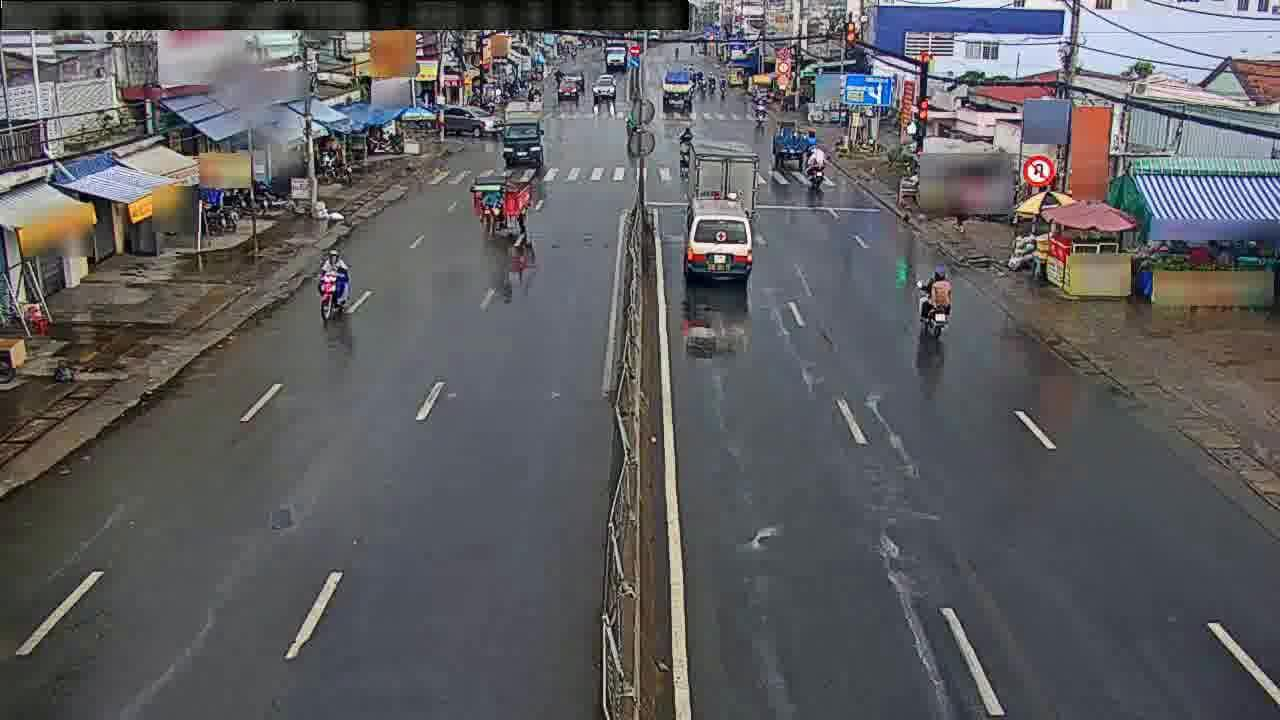14: (684, 196, 758, 285)
8: (690, 151, 757, 215), (500, 97, 546, 160)
container: (434, 100, 498, 141)
motorbike: (308, 245, 353, 325), (909, 263, 954, 340), (803, 146, 830, 191), (673, 124, 697, 166)
